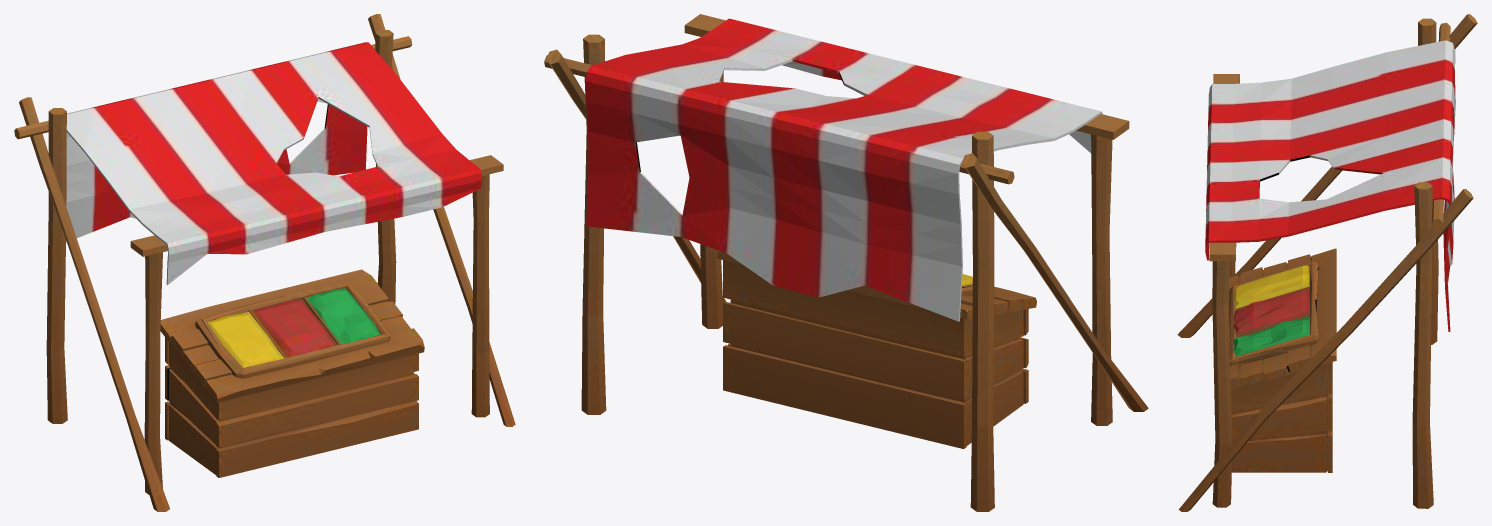
File: stall_counter.glb
3 views of the same model, side by side, from view 1: azimuth 30°, elevation 25°; view 2: azimuth 150°, elevation 25°; view 3: azimuth 270°, elevation 25° (orthographic). The views are drawn at different scales.
Parts seen in each view (by area): view 1: stall_counter; view 2: stall_counter; view 3: stall_counter.
Part boxes in pixels (x1,y1,x2,y2): stall_counter: [14, 14, 515, 511]; stall_counter: [544, 14, 1148, 511]; stall_counter: [1177, 14, 1477, 511].
Bounding box in the file's own units: 3.51 × 2.69 × 2.28.
1 material, 1 textured.
